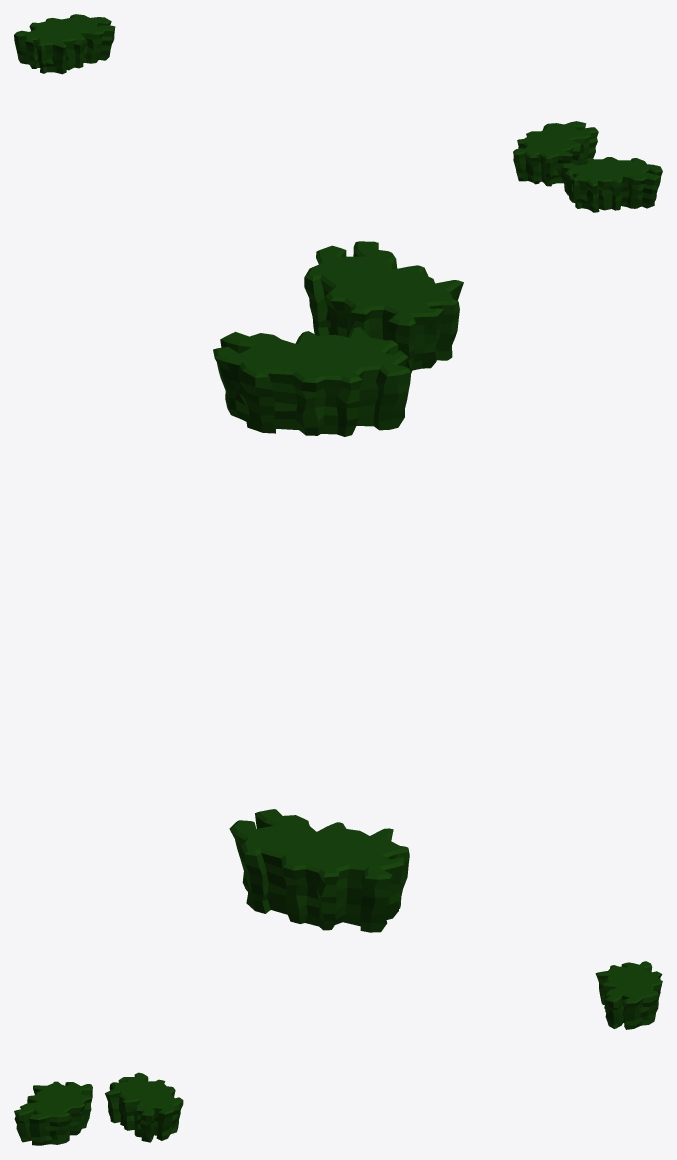
File: Cliff_1.glb
3 renders of one model, top to bottom at view 1: azimuth 30°, elevation 25°; view 2: azimuth 150°, elevation 25°; view 3: azimuth 270°, elevation 25°, orthographic. The views are drawn at different scales.
Parts seen in each view (by area): view 1: Cliff_1.003; view 2: Cliff_1.003; view 3: Cliff_1.003.
Boxes of the visible parts, left/top/right/bottom form: Cliff_1.003: left=14, top=14, right=662, bottom=212; Cliff_1.003: left=213, top=241, right=463, bottom=932; Cliff_1.003: left=14, top=961, right=662, bottom=1145.
Size of the model in its own units: 208 by 22.42 by 343.
